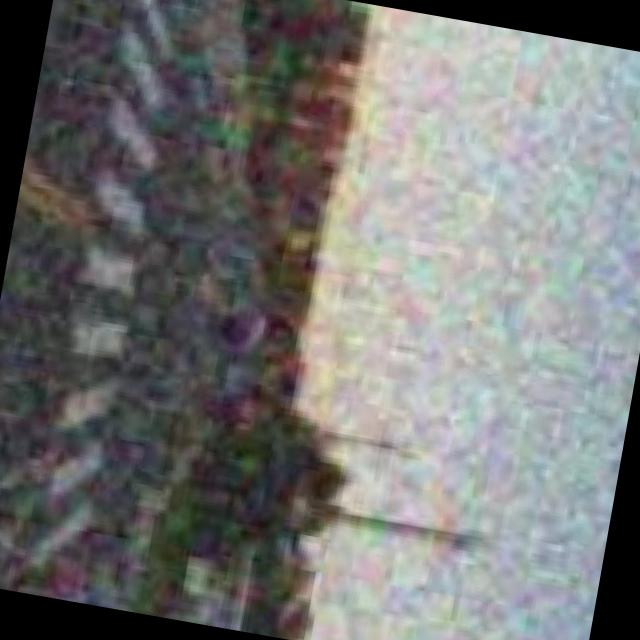zebra: (18, 0, 192, 586)
